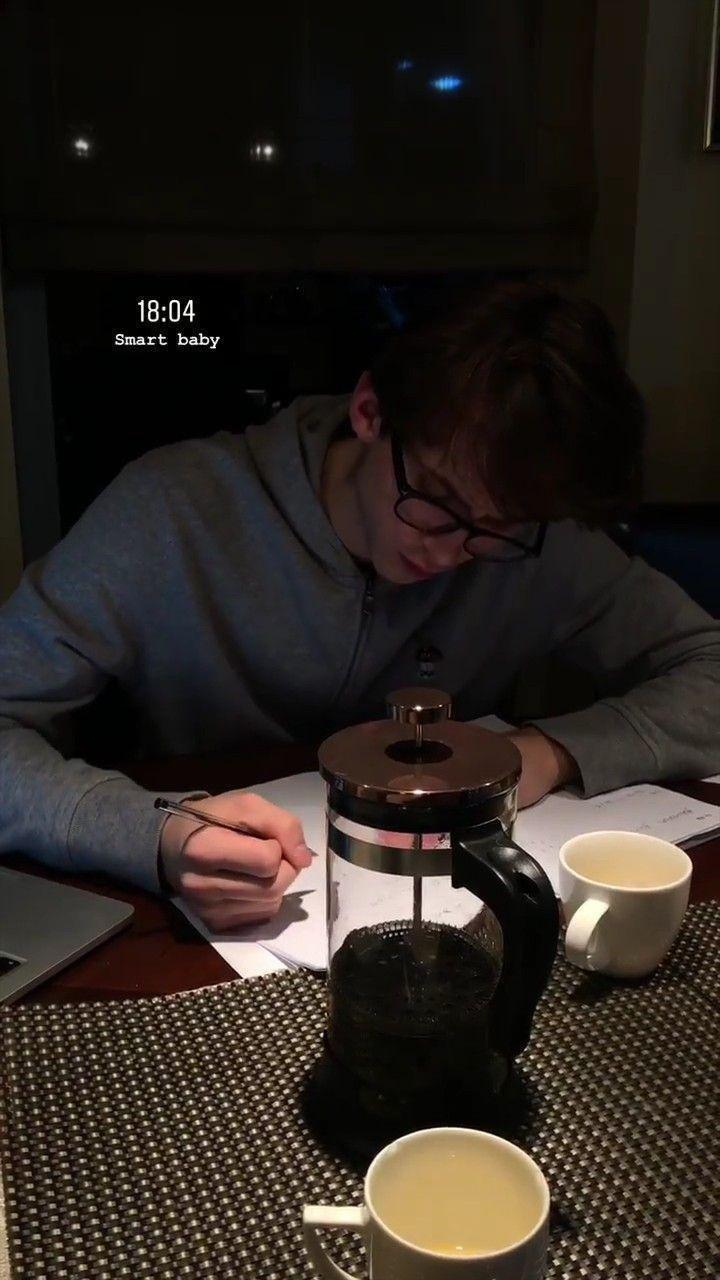cup-handle: (298, 1125, 554, 1279), (556, 830, 693, 979)
